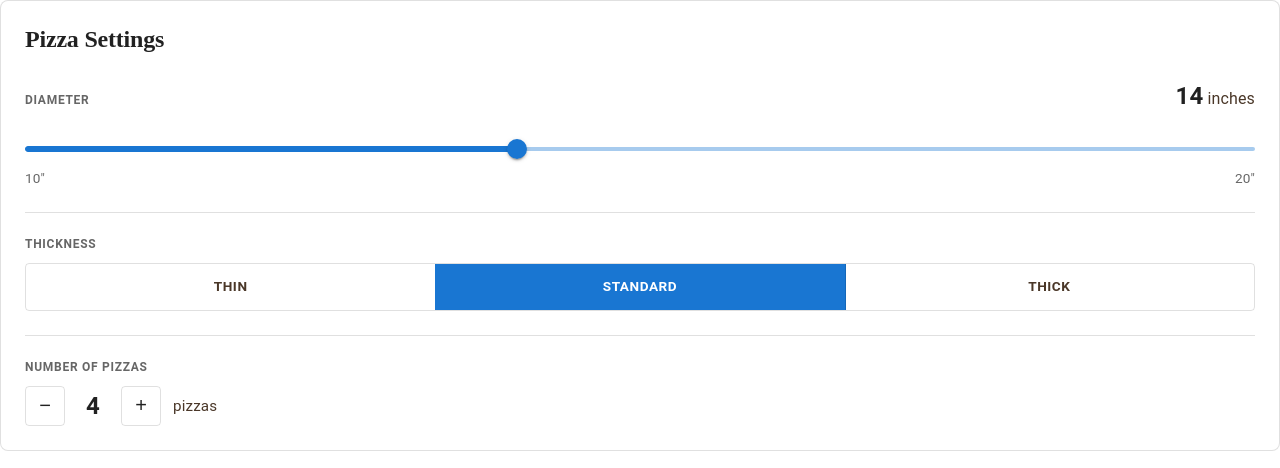
Test: <PizzaSettings /> › Number of Pizzas › increases the displayed quantity by one when the increment control is activated
What coordinates should you click on to do the following:
click the button named "Increase number of pizzas"
I would click on:
 (141, 406)
Its box is [121, 386, 161, 426].
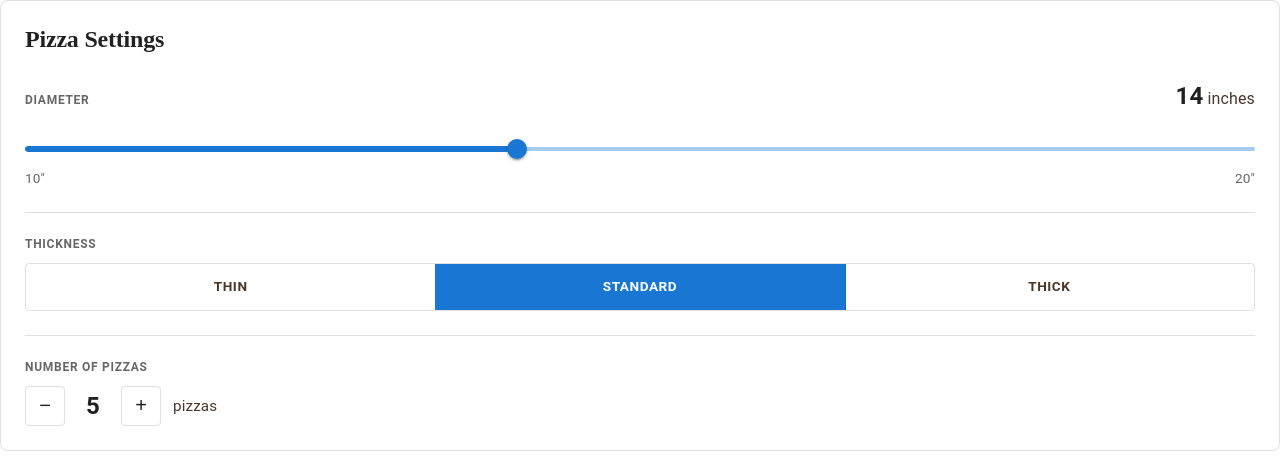
Now the text "5" is shown, box [86, 392, 100, 420]
